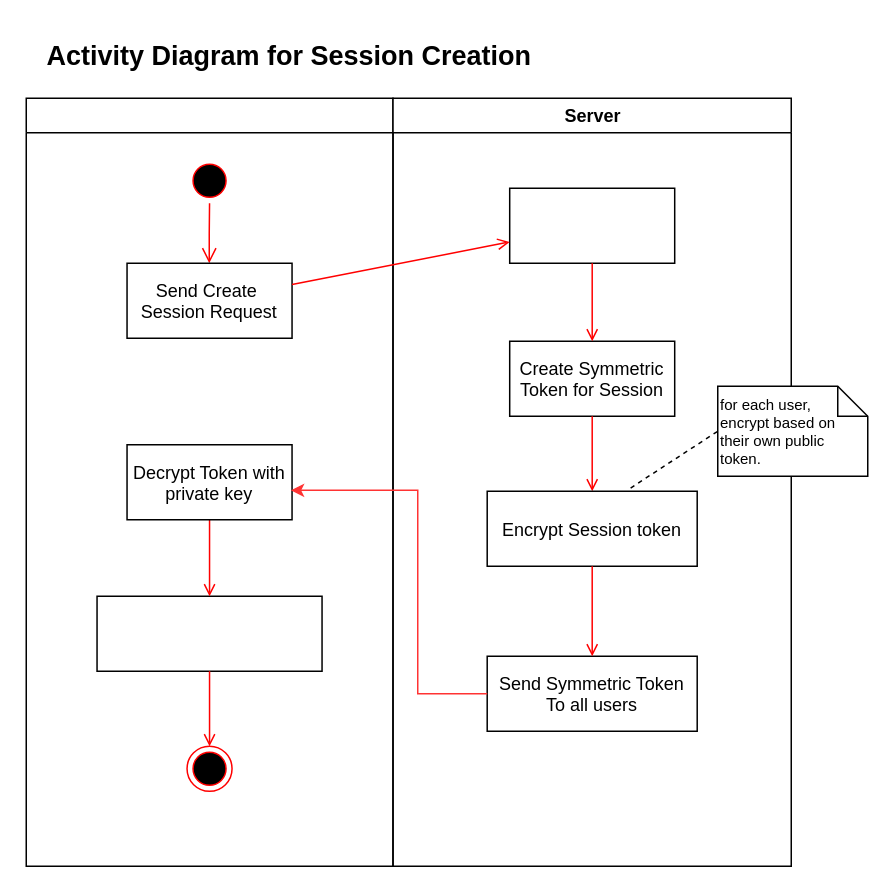
Image size: 894x893. Some labels were removed from this diagram. The box of each missing label's shape, as (x1, y1, x2, y2) in pixels:
Client: (25, 97, 393, 866)
Create Session: (508, 187, 675, 263)
Store Session Token in Cache: (96, 595, 322, 671)
